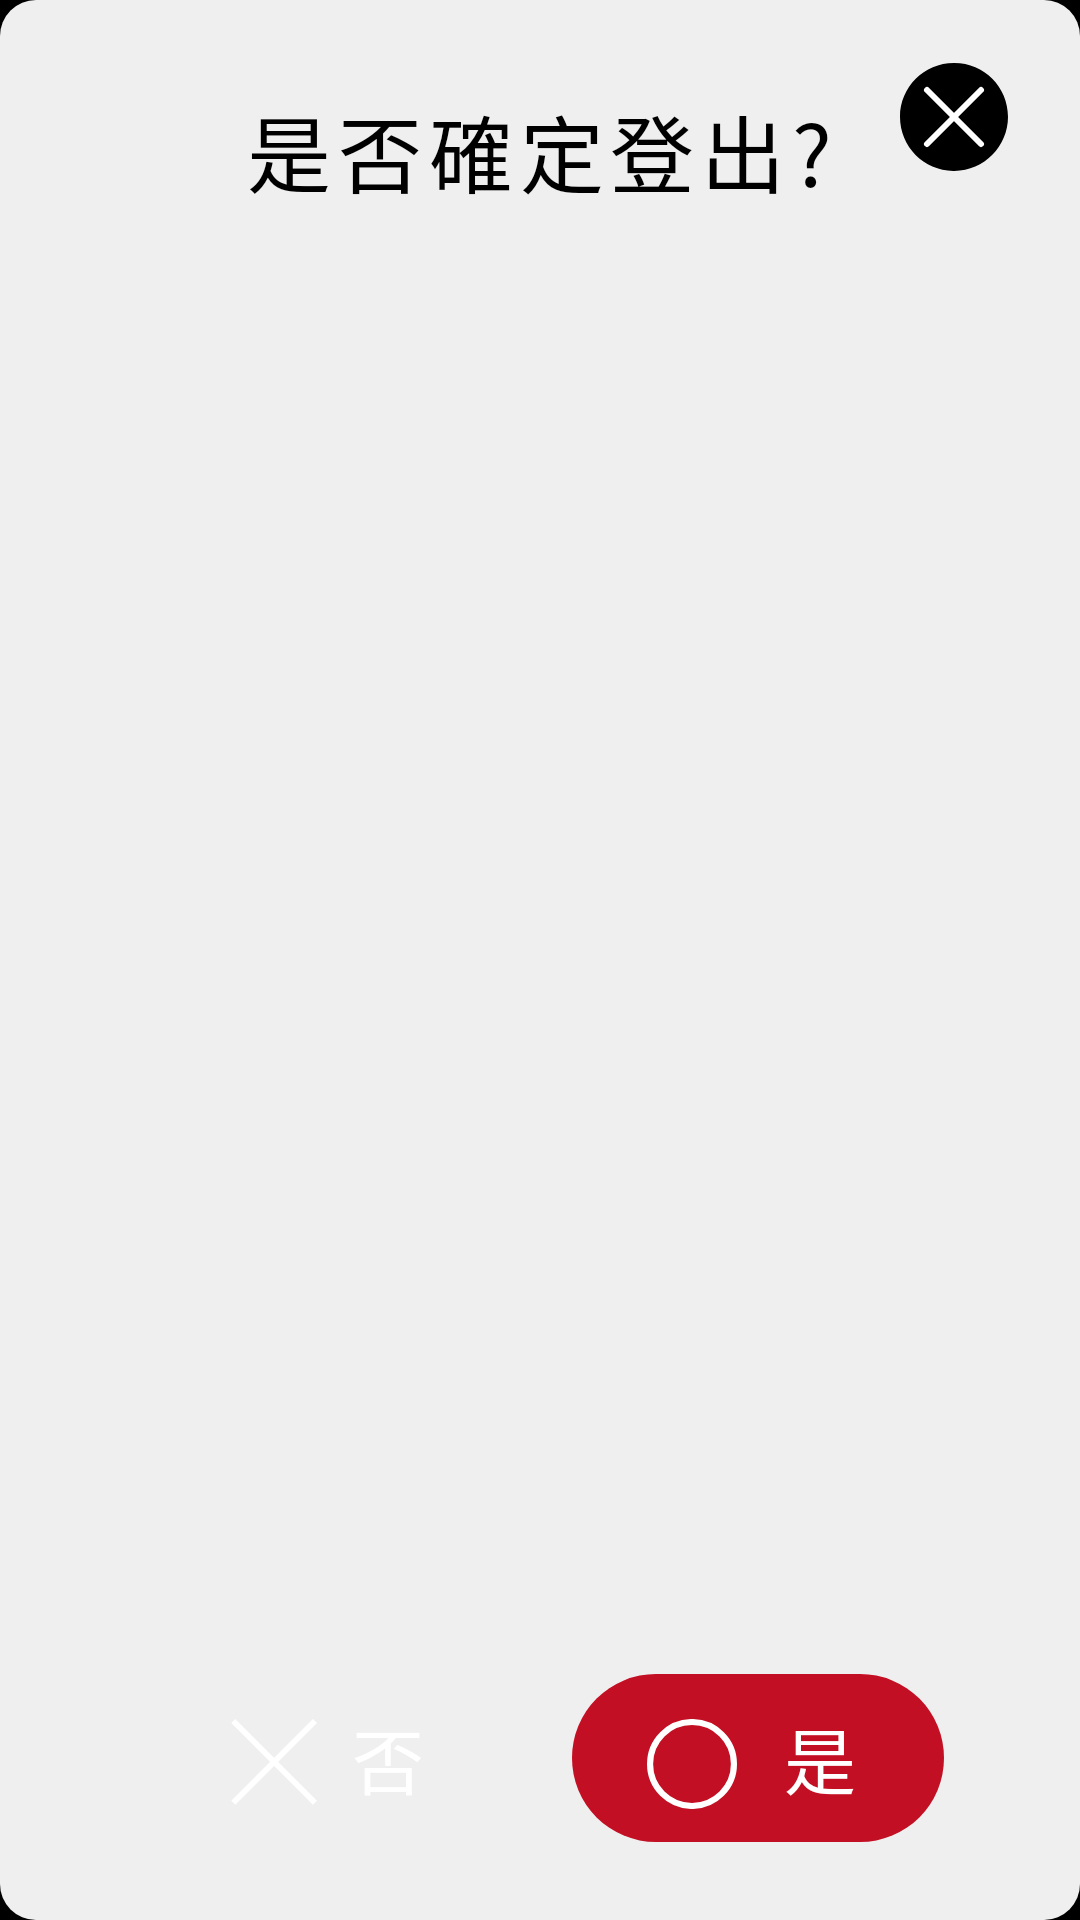

Icons on this 1080 × 1920 Android screen, each with the point to tap as (x,y):
close: (954,117)
